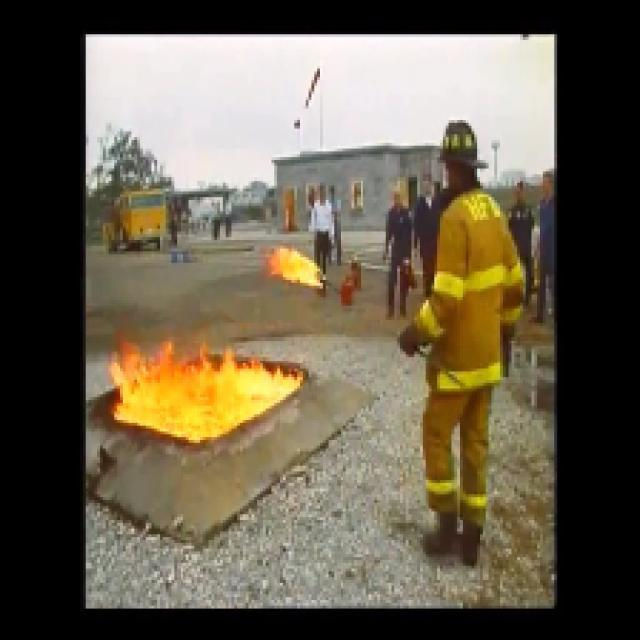Fire: (97, 334, 330, 439), (256, 240, 336, 290)
